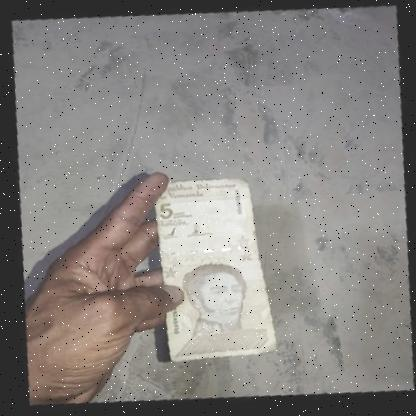five-front-vef: (147, 171, 276, 364)
